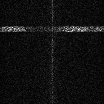wifi: (1, 25, 104, 31)
